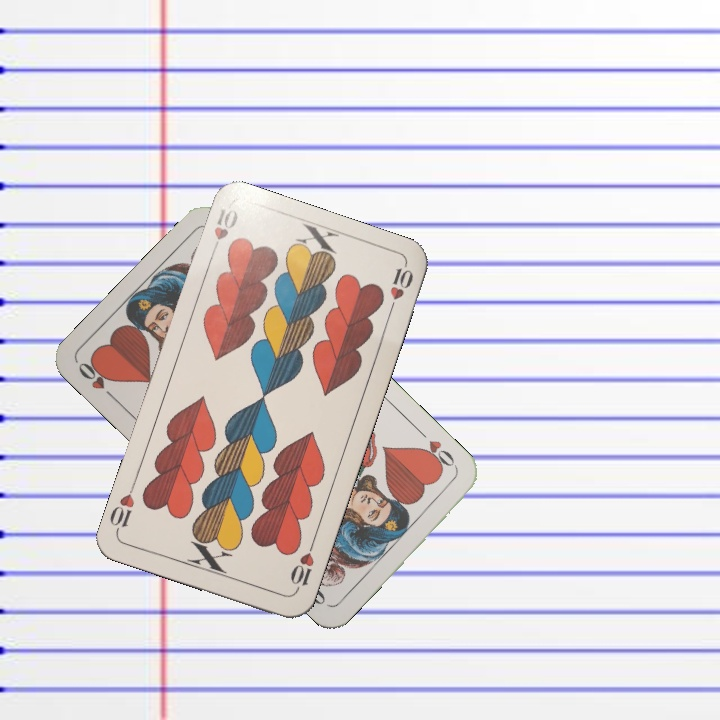H10: (206, 204, 241, 260), (286, 538, 317, 595)
HO: (74, 356, 121, 405), (414, 426, 460, 474)
